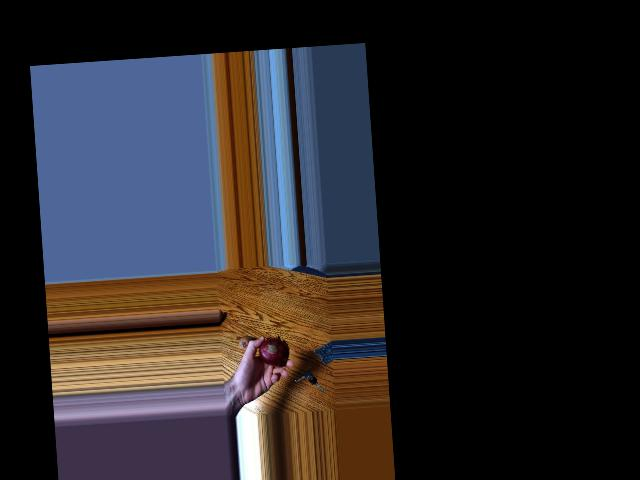onion: (233, 334, 252, 355)
